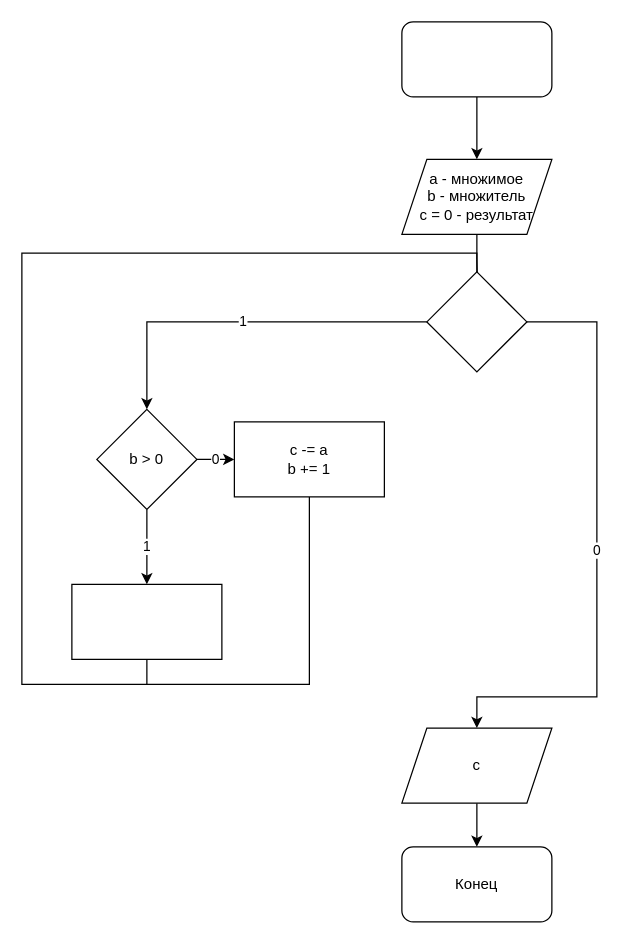
Some shapes in this 629 by 944 pixel diagram are drawn without their labels. The shapes that lost their labels are listed below. From the top down, each one's box as (x1, y1, x2, y2) in pixels, then its label:
(401, 21, 552, 97): Начало
(426, 271, 527, 372): b != 0
(71, 583, 222, 659): c += a b -= 1
